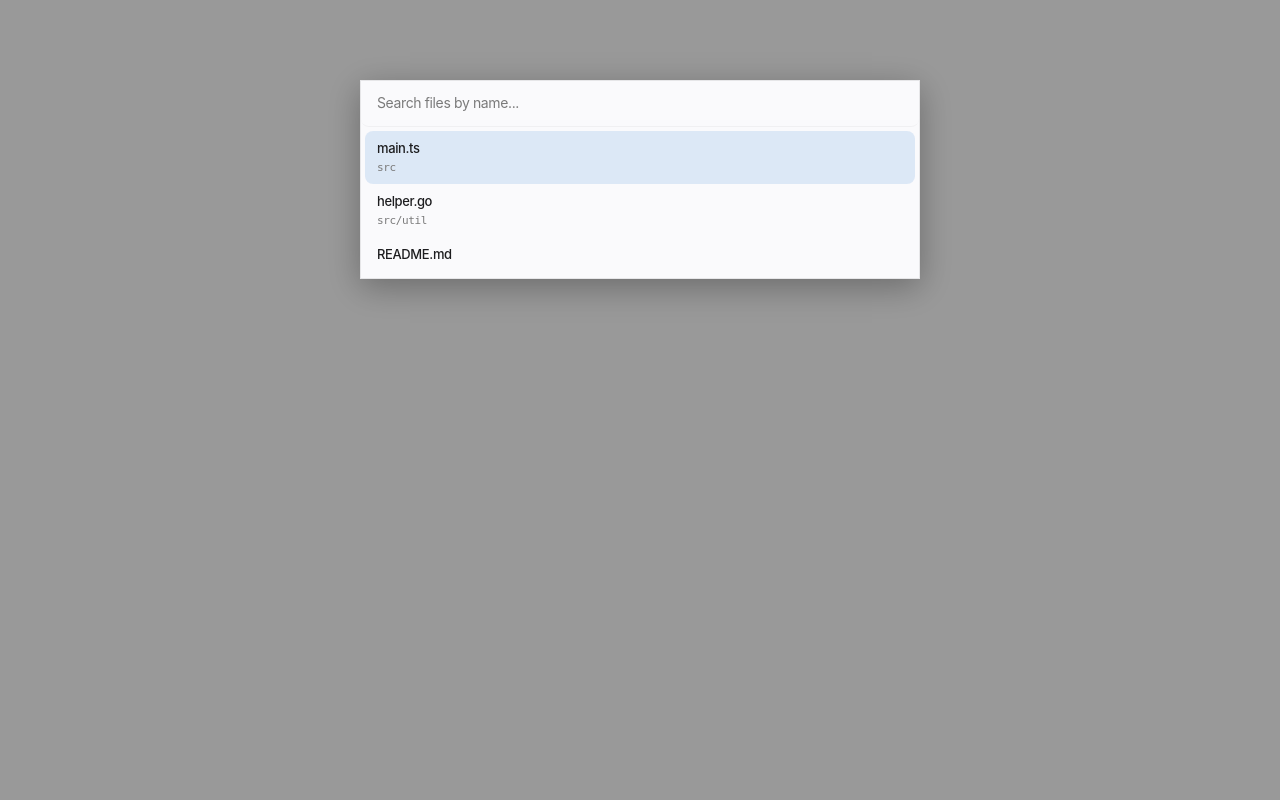
QuickOpen (Plan 55) › shows the no-files message when no files match
The image size is (1280, 800).
Type "zzzzzzz" into the dropdown with placeholder "Search files by name..." at point(640, 104), box x1=361 y1=81 x2=919 y2=127
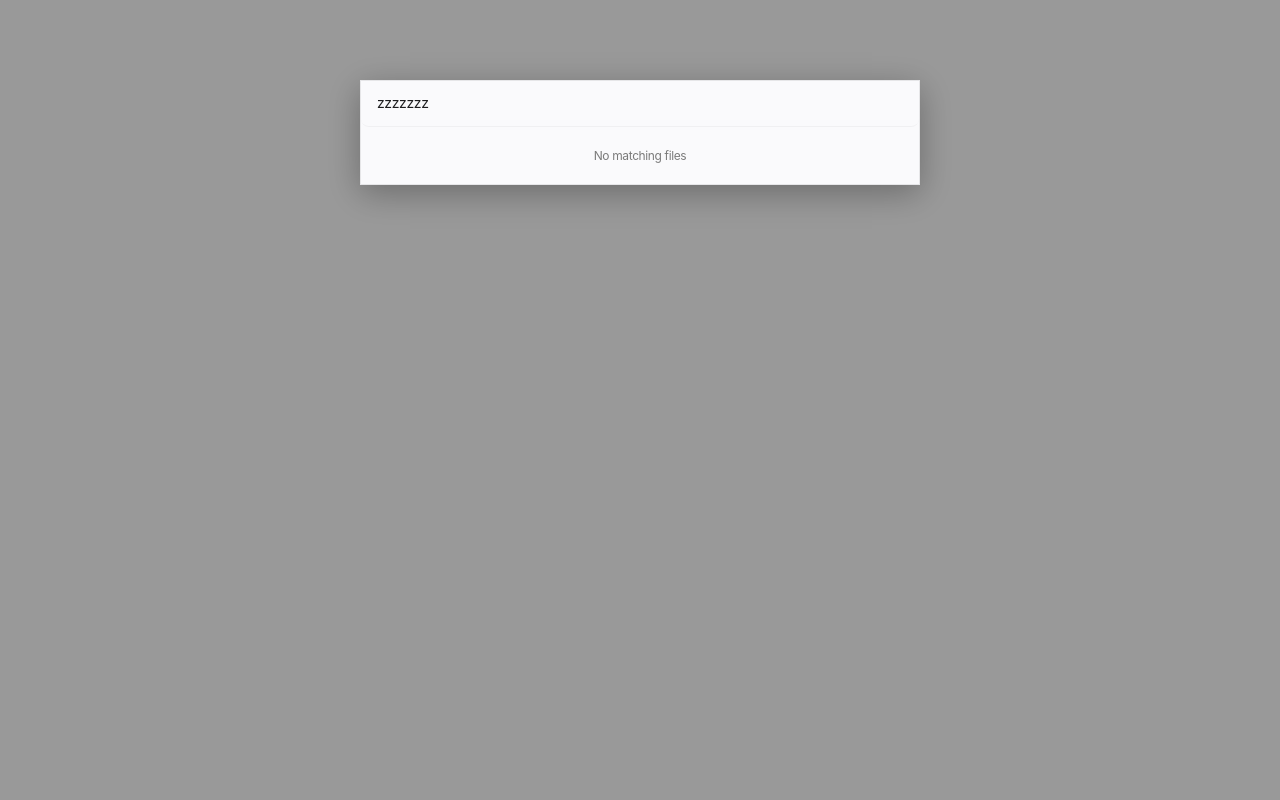
Result: the text "No matching files" is shown at x1=594 y1=148 x2=686 y2=163
